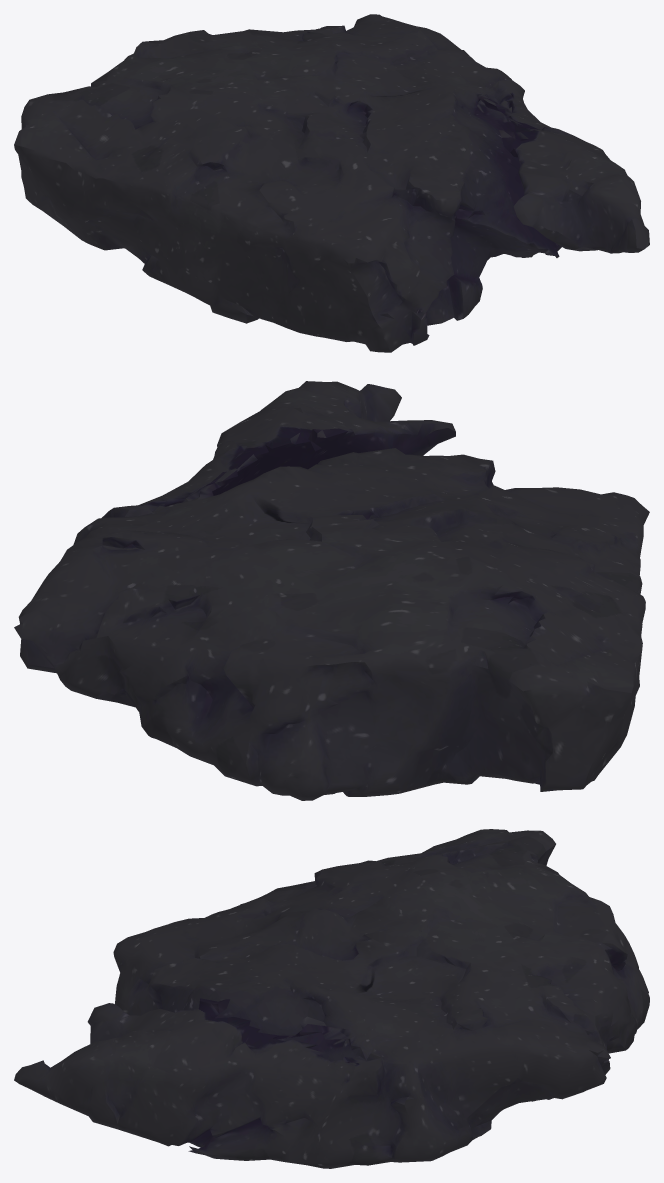
The model's file is rock-flat-fracture.glb.
3 renders of one model, top to bottom at view 1: azimuth 30°, elevation 25°; view 2: azimuth 150°, elevation 25°; view 3: azimuth 270°, elevation 25°, orthographic. The views are drawn at different scales.
Parts seen in each view (by area): view 1: Rock_D_FlatFracture; view 2: Rock_D_FlatFracture; view 3: Rock_D_FlatFracture.
Part boxes in pixels (left/top/right/bottom): Rock_D_FlatFracture: left=14, top=14, right=649, bottom=352; Rock_D_FlatFracture: left=14, top=381, right=649, bottom=800; Rock_D_FlatFracture: left=14, top=829, right=649, bottom=1168.
Size of the model in its own units: 1.24 by 0.4368 by 1.38.
Materials: 1 (1 with a texture image).
